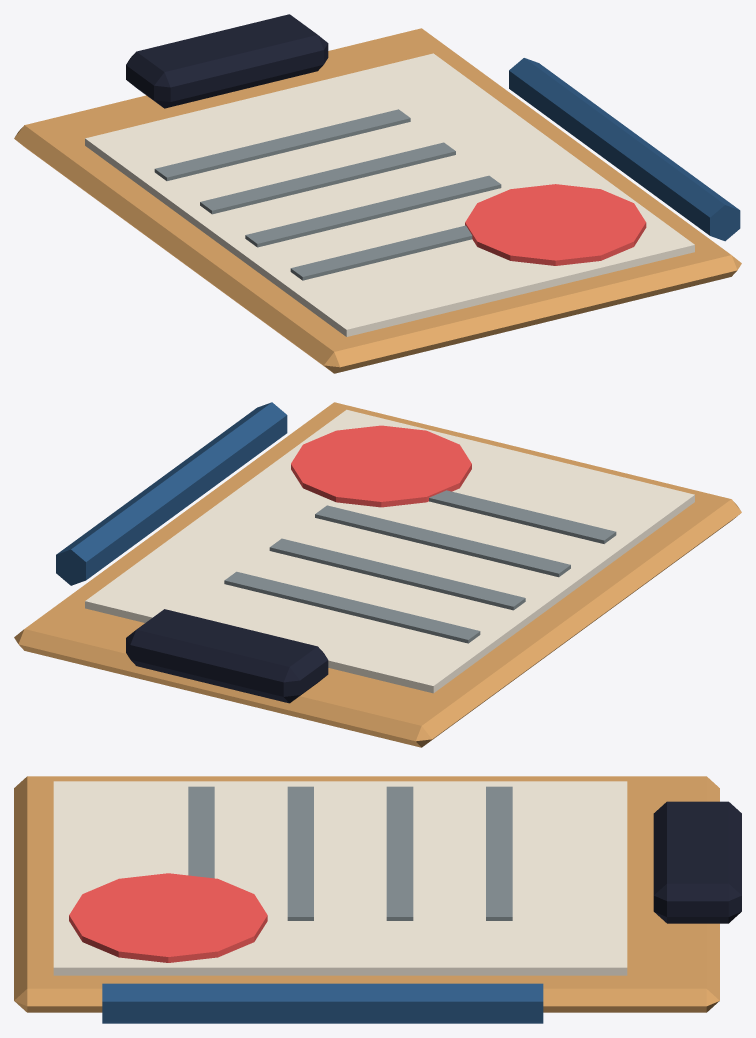
The model's file is sm_env_depot_supply_insurance.glb.
3 views of the same model, one above another, from view 1: azimuth 30°, elevation 25°; view 2: azimuth 150°, elevation 25°; view 3: azimuth 270°, elevation 25° (orthographic). The views are drawn at different scales.
Parts seen in each view (by area): view 1: Sheet, Clipboard, Clip, Stamp, Pen, Line.002, Line, Line.001, Line.003; view 2: Sheet, Clipboard, Clip, Stamp, Pen, Line, Line.001, Line.002, Line.003; view 3: Sheet, Clipboard, Pen, Stamp, Clip, Line.001, Line, Line.002, Line.003.
Boxes of the visible parts, left/top/right/bottom form: Sheet: left=85, top=53, right=694, bottom=336; Clipboard: left=14, top=28, right=741, bottom=373; Clip: left=126, top=14, right=328, bottom=108; Stamp: left=465, top=184, right=646, bottom=265; Pen: left=509, top=58, right=740, bottom=241; Line.002: left=245, top=175, right=501, bottom=247; Line: left=154, top=109, right=410, bottom=180; Line.001: left=200, top=142, right=455, bottom=214; Line.003: left=290, top=225, right=472, bottom=280; Sheet: left=85, top=409, right=694, bottom=693; Clipboard: left=14, top=402, right=741, bottom=747; Clip: left=126, top=609, right=328, bottom=703; Stamp: left=291, top=425, right=471, bottom=507; Pen: left=56, top=402, right=287, bottom=585; Line: left=224, top=571, right=480, bottom=643; Line.001: left=269, top=538, right=525, bottom=610; Line.002: left=315, top=505, right=570, bottom=577; Line.003: left=429, top=490, right=616, bottom=543; Sheet: left=53, top=781, right=627, bottom=975; Clipboard: left=14, top=776, right=719, bottom=1012; Pen: left=102, top=983, right=543, bottom=1023; Stamp: left=69, top=873, right=267, bottom=962; Clip: left=653, top=801, right=741, bottom=923; Line.001: left=386, top=786, right=413, bottom=920; Line: left=486, top=786, right=512, bottom=920; Line.002: left=287, top=786, right=313, bottom=920; Line.003: left=188, top=786, right=214, bottom=878.
Bounding box in the file's own units: 0.2587 × 0.032 × 0.33.
